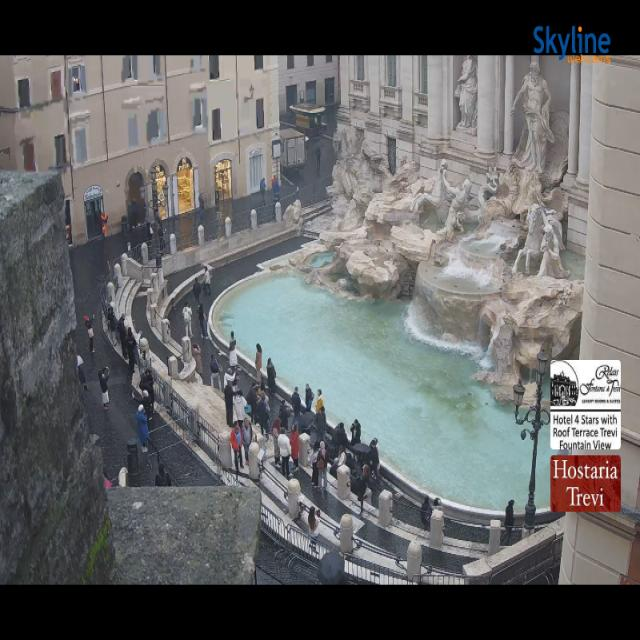person: (277, 430, 291, 477), (358, 465, 371, 515), (140, 369, 154, 414), (231, 422, 243, 472), (136, 405, 148, 452), (501, 500, 514, 543), (258, 391, 270, 435), (316, 442, 327, 489), (77, 356, 87, 405), (126, 328, 136, 375), (247, 384, 259, 423), (308, 506, 320, 544), (210, 355, 223, 390), (224, 382, 234, 427), (289, 425, 299, 469), (117, 315, 127, 359), (368, 438, 379, 478), (332, 423, 348, 450), (271, 418, 280, 465), (234, 389, 246, 424), (99, 368, 109, 410), (242, 417, 251, 461), (278, 400, 290, 432), (311, 440, 319, 488), (142, 389, 153, 423), (84, 315, 94, 352), (315, 406, 326, 439), (420, 496, 431, 529), (156, 463, 171, 487), (77, 356, 87, 390), (183, 304, 193, 338), (267, 358, 276, 395), (192, 343, 202, 376), (108, 305, 116, 344), (198, 302, 206, 340), (229, 331, 237, 369), (292, 386, 301, 418), (255, 344, 262, 384), (305, 384, 314, 411), (129, 202, 138, 229), (224, 368, 236, 388), (351, 419, 360, 445), (157, 222, 164, 253), (336, 446, 346, 467), (204, 266, 211, 295), (193, 279, 201, 304), (272, 177, 279, 202), (260, 178, 266, 206), (316, 390, 323, 412), (316, 144, 321, 174), (101, 212, 107, 237), (147, 222, 153, 243), (433, 498, 442, 510), (272, 176, 276, 189)
